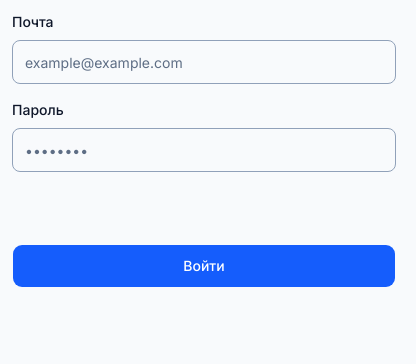
Test: LoginPage › показывает ошибки обязательных полей при отправке пустой формы
The width and height of the screenshot is (416, 364).
Click the button "Войти": [204, 266] box [12,244,396,288]
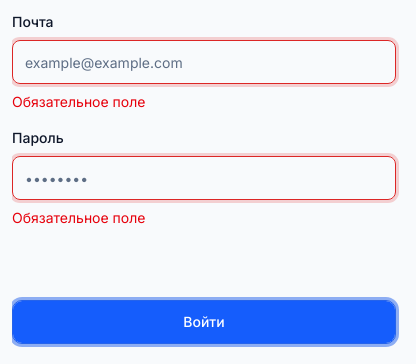
Expected: the text "Обязательное поле" is shown 2 times, [12,93,146,110]; [12,209,146,226]
